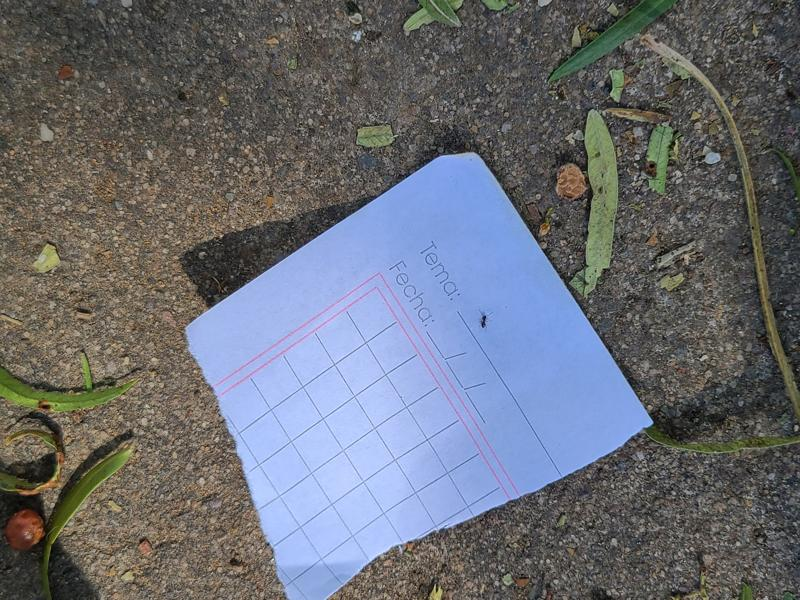papel: (183, 154, 654, 600)
